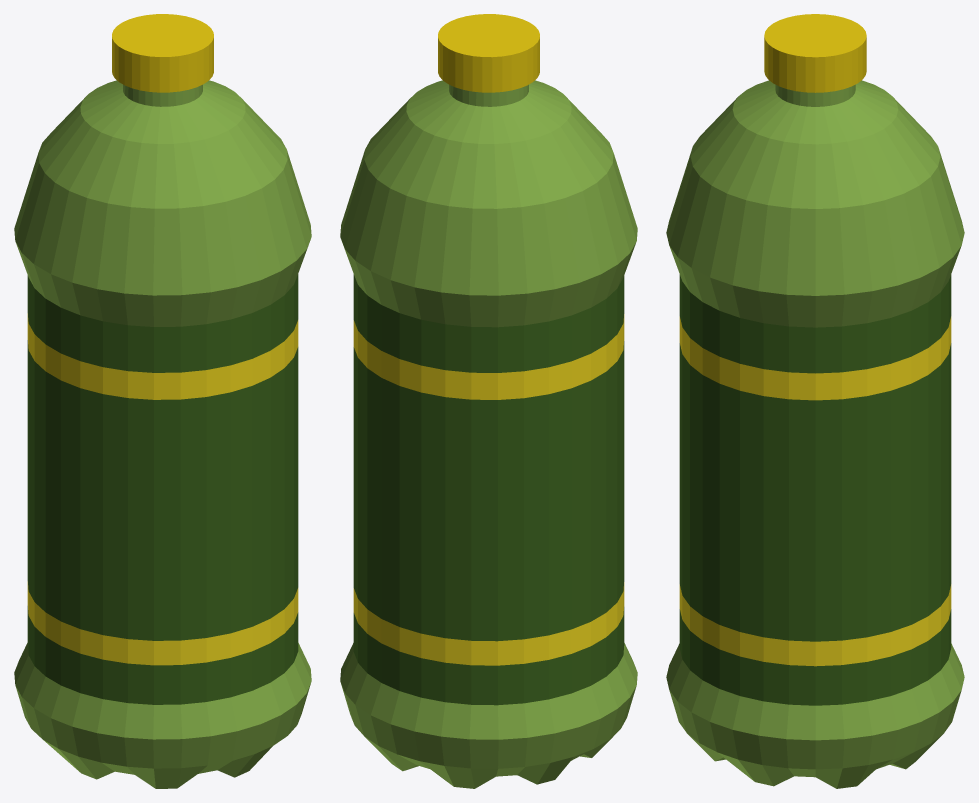
Rendered from Large Sprits Drink.fbx.
3 renders of one model, left to right at view 1: azimuth 30°, elevation 25°; view 2: azimuth 150°, elevation 25°; view 3: azimuth 270°, elevation 25°, orthographic.
Visible parts, largest first — view 1: Large Sprits Drink; view 2: Large Sprits Drink; view 3: Large Sprits Drink.
Boxes of the visible parts, box(x1,y1,x2,y2) form: Large Sprits Drink: box(14, 14, 311, 788); Large Sprits Drink: box(340, 14, 637, 788); Large Sprits Drink: box(666, 14, 964, 788).
Bounding box in the file's own units: 24.96 × 65.38 × 24.96.
1 material, 1 textured.
